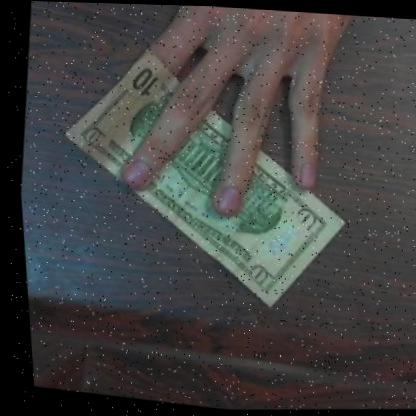ten-back: (27, 24, 373, 337)
